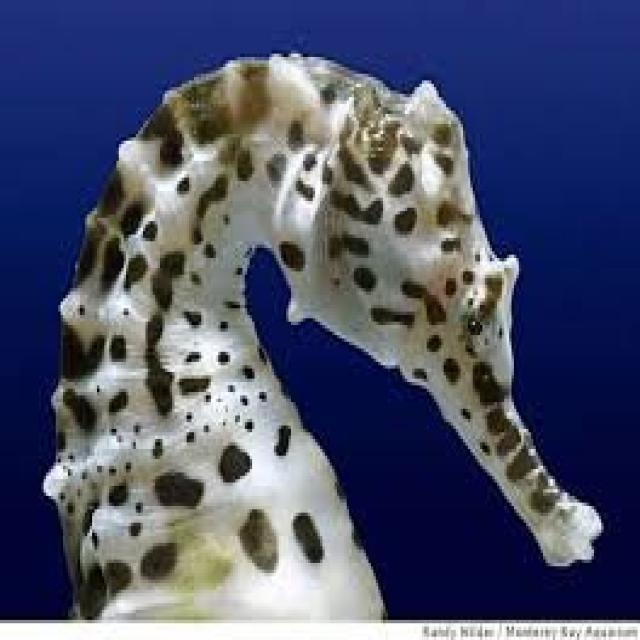seahorse: (44, 54, 601, 613)
